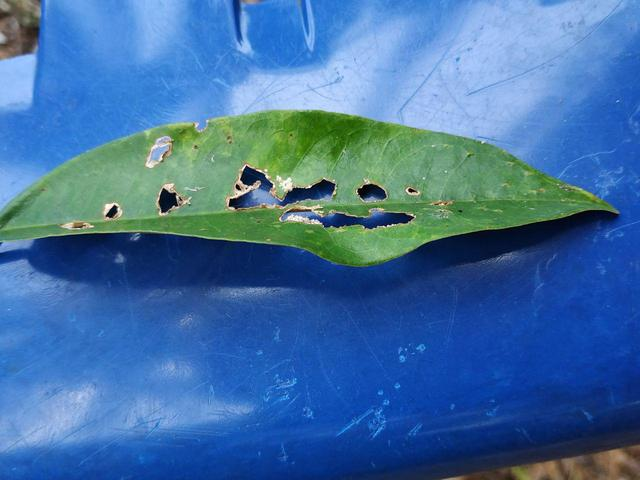blight spot: (217, 162, 447, 242), (53, 195, 134, 234), (130, 134, 192, 171), (145, 180, 191, 227)
